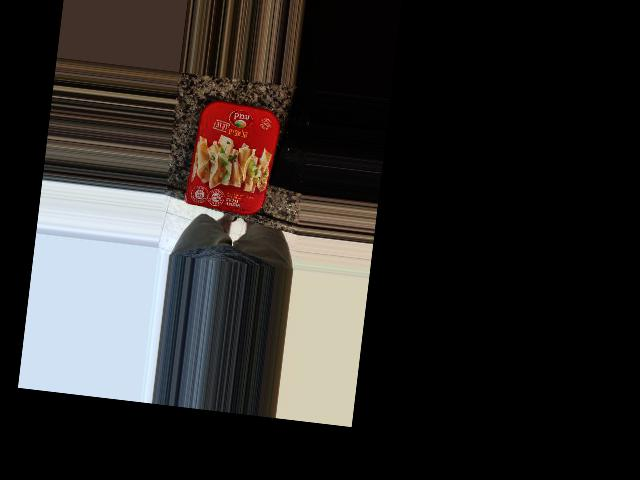cheese: (191, 121, 291, 241)
